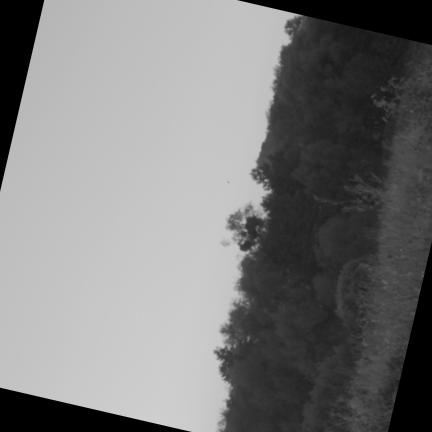Shahed: (227, 179, 231, 184)
